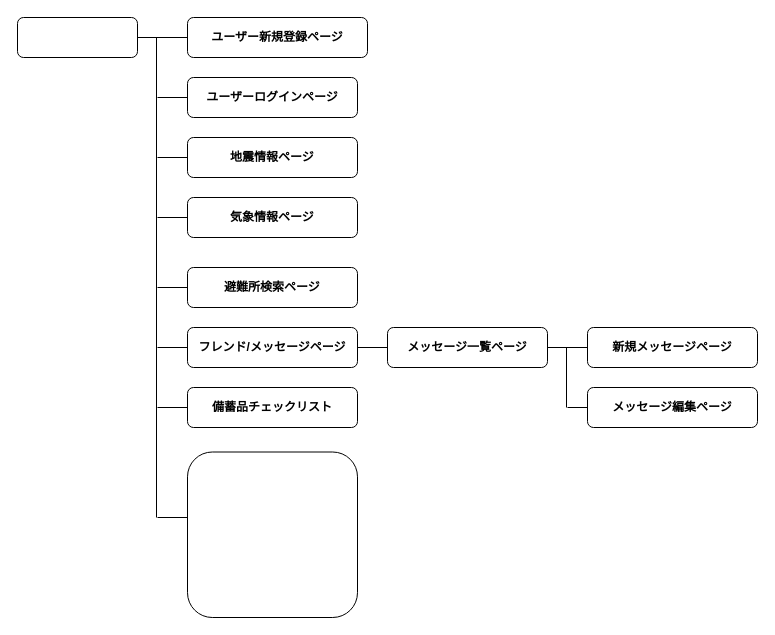
Some shapes in this 775 by 635 pixel diagram are drawn without their labels. Here are the shapes that lost their labels. From the top down, the box of each, then its label:
(16, 16, 138, 58): 一般ページ
(186, 451, 358, 618): マニュアルページ ・日頃からできる備えについて ・地震について ・台風について ・避難所生活について ・避難時の怪我について ・備蓄品について
